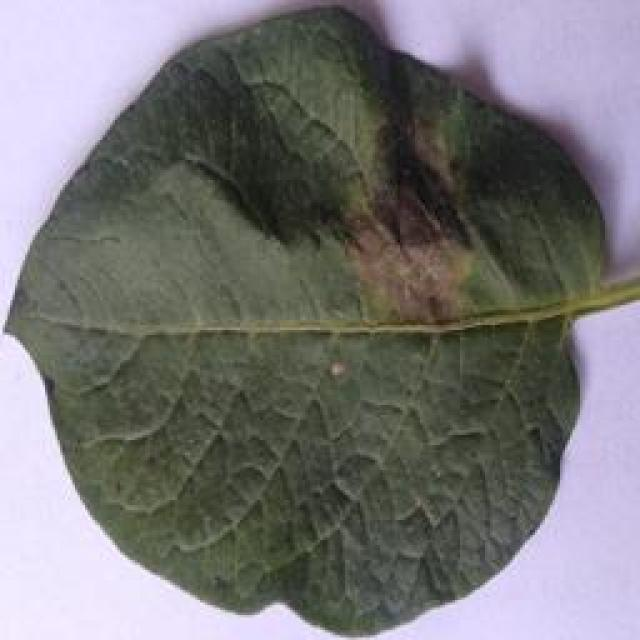Potato_Late_Blight: (5, 4, 630, 628), (0, 2, 162, 195)
